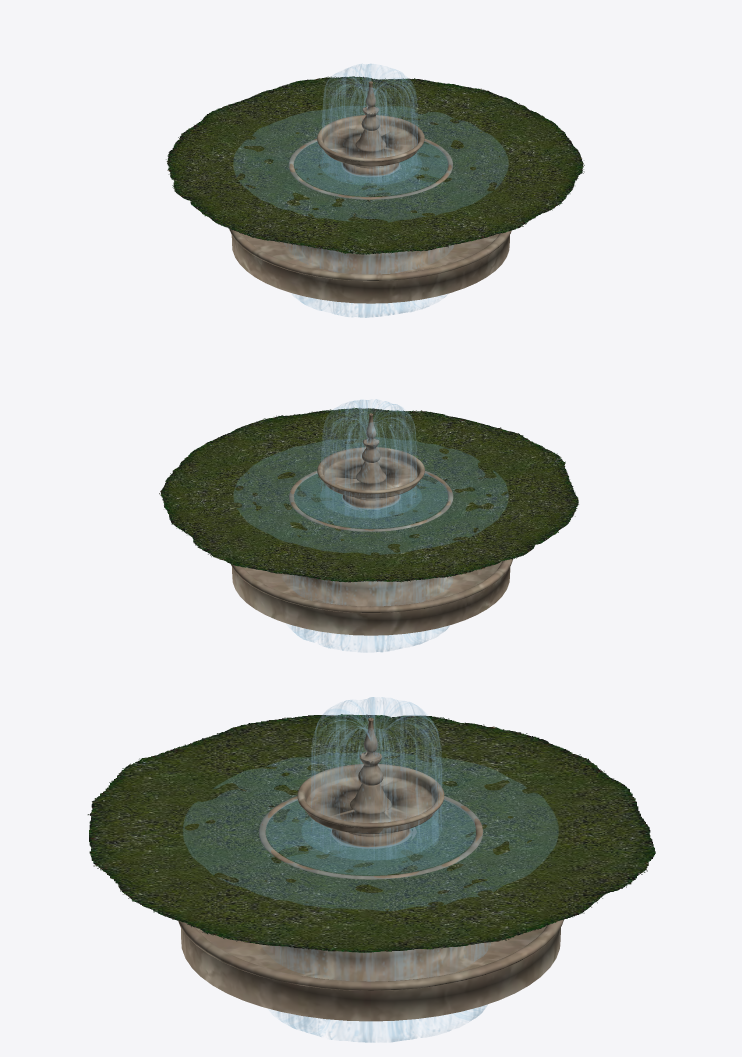
File: fountain_water_simulation.glb
The picture shows the model from 3 angles, top to bottom: view 1: azimuth 30°, elevation 25°; view 2: azimuth 150°, elevation 25°; view 3: azimuth 270°, elevation 25°; orthographic projection. The views are drawn at different scales.
Visible parts, largest first — view 1: hShape, h_1Shape, f_1Shape, fShape, f_3Shape, f_2Shape; view 2: hShape, h_1Shape, f_1Shape, fShape, f_3Shape, f_2Shape; view 3: hShape, h_1Shape, f_1Shape, fShape, f_3Shape, f_2Shape.
Boxes of the visible parts, x1=… form: hShape: x1=166, y1=76, x2=584, y2=254; h_1Shape: x1=229, y1=81, x2=511, y2=303; f_1Shape: x1=234, y1=106, x2=507, y2=222; fShape: x1=284, y1=63, x2=453, y2=317; f_3Shape: x1=294, y1=141, x2=447, y2=196; f_2Shape: x1=320, y1=154, x2=421, y2=185; hShape: x1=159, y1=407, x2=578, y2=582; h_1Shape: x1=231, y1=413, x2=513, y2=635; f_1Shape: x1=234, y1=438, x2=508, y2=554; fShape: x1=284, y1=399, x2=452, y2=652; f_3Shape: x1=294, y1=473, x2=447, y2=528; f_2Shape: x1=320, y1=486, x2=421, y2=515; hShape: x1=87, y1=714, x2=655, y2=952; h_1Shape: x1=178, y1=717, x2=563, y2=1021; f_1Shape: x1=183, y1=752, x2=558, y2=910; fShape: x1=264, y1=697, x2=490, y2=1042; f_3Shape: x1=266, y1=799, x2=475, y2=874; f_2Shape: x1=302, y1=817, x2=429, y2=859.
Size of the model in its own units: 6.49e+07 by 2.82e+07 by 6.49e+07.
4 materials, 4 textured.
